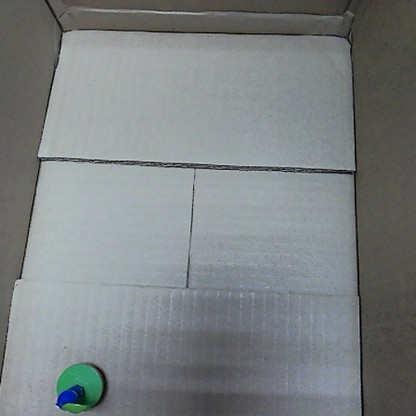leafairy: (50, 361, 110, 414)
